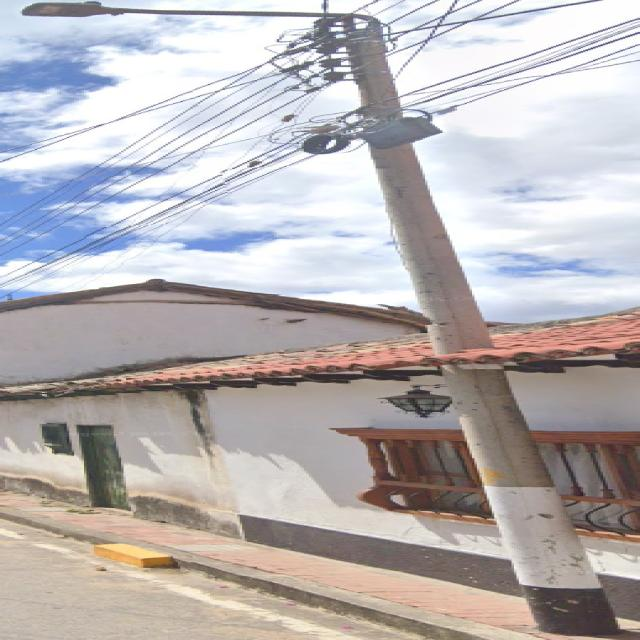Fachada: (2, 280, 516, 592), (445, 310, 638, 605), (2, 279, 423, 383)
Poste: (25, 1, 494, 357), (445, 364, 620, 634)
